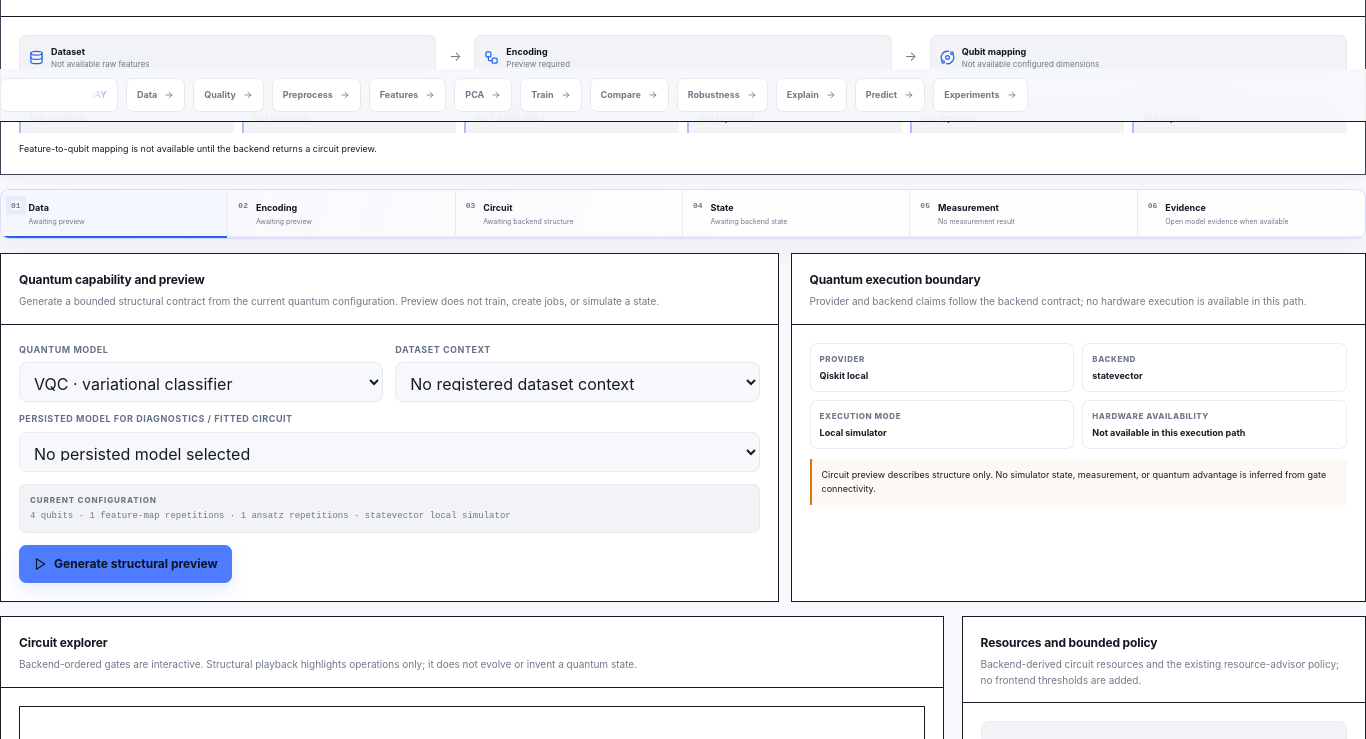
Quantum Lab visualization contract components › ignores a late visualization response after the Quantum Lab context changes
This screenshot has width=1366, height=739.
(page scrolled)
Select "Cohort A" in the dropdown named "Quantum dataset context" at (577, 382), box [395,362,760,402]
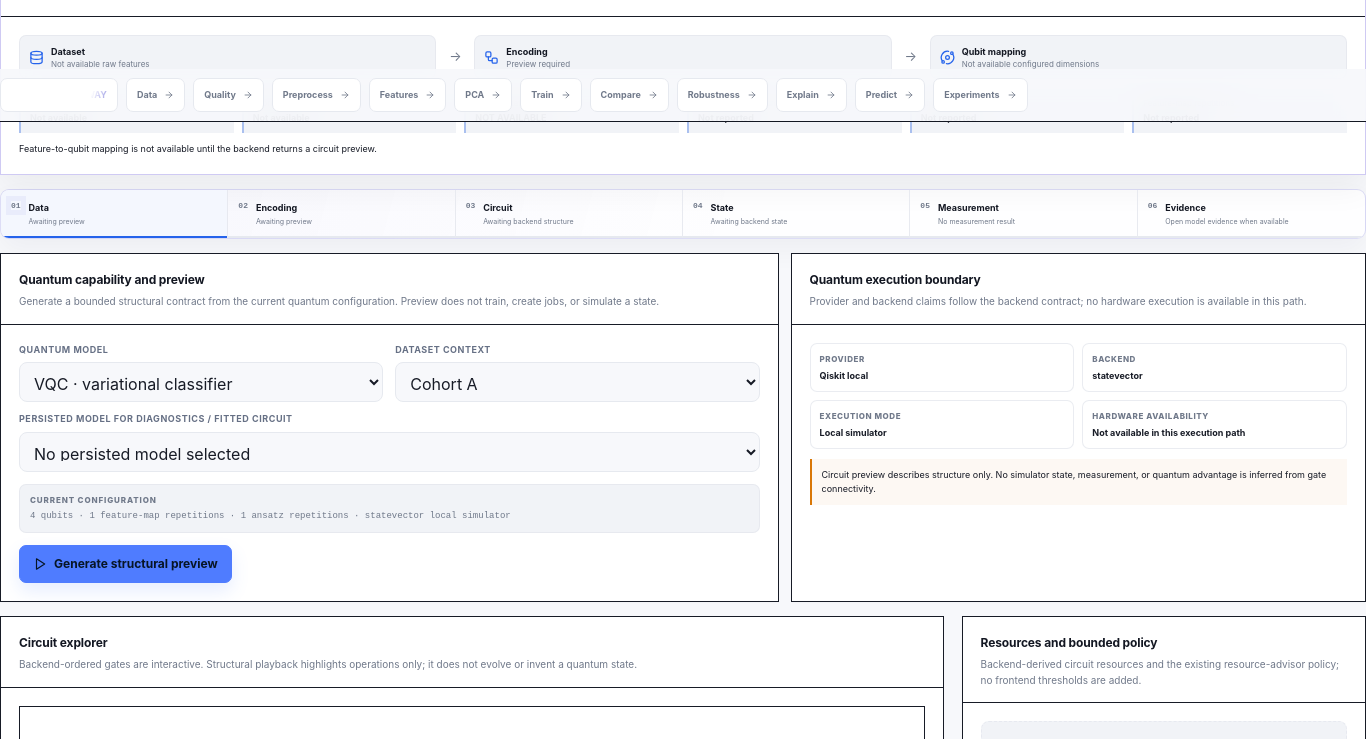
Click the button "Generate structural preview" at (125, 564), box [19,545,232,583]
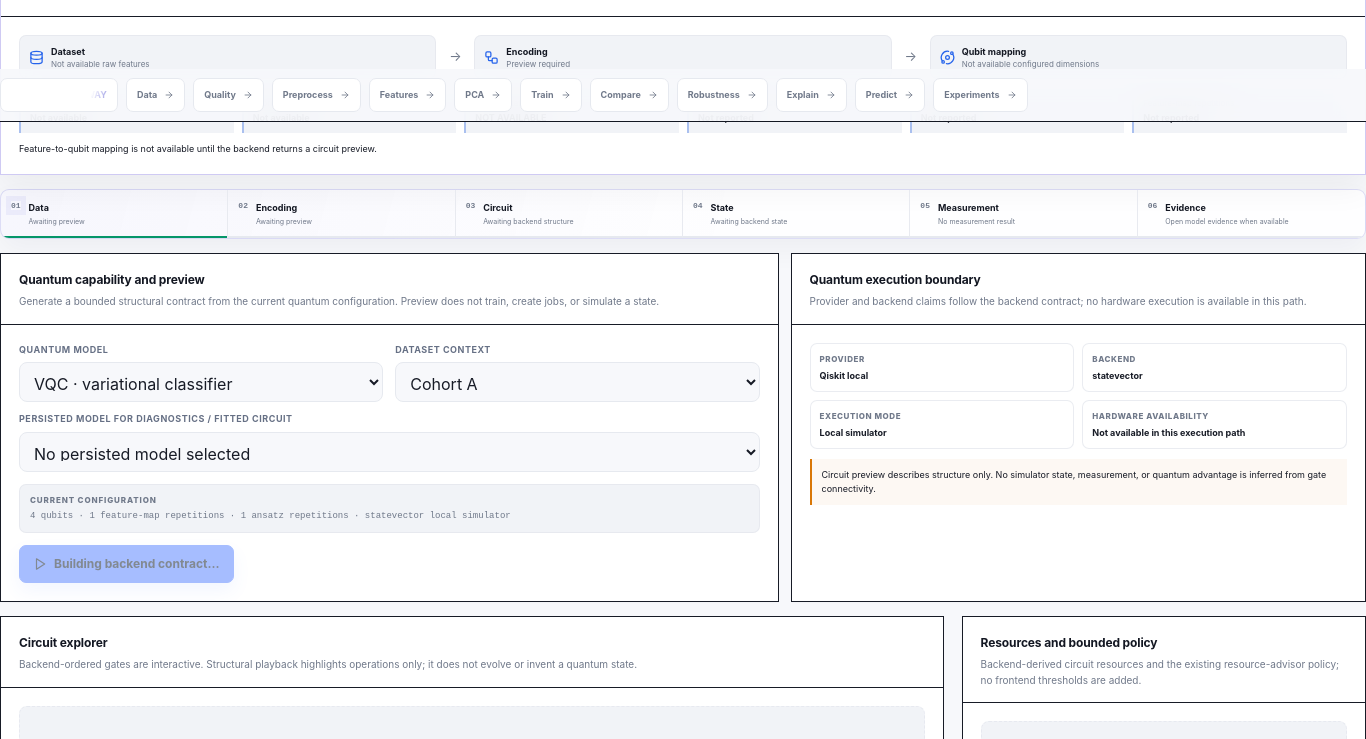
Select "Cohort B" in the dropdown named "Quantum dataset context" at (577, 382), box [395,362,760,402]
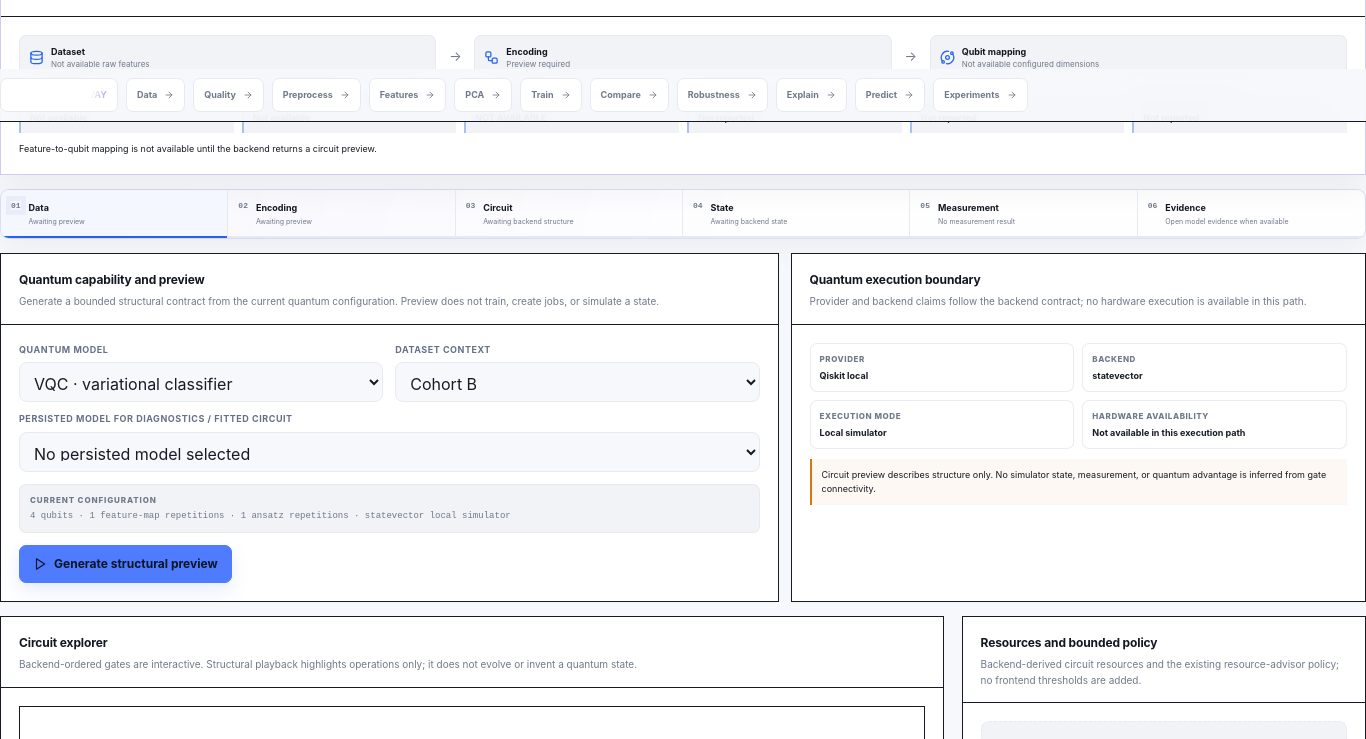
Click the button "Generate structural preview" at (125, 564), box [19,545,232,583]
(page scrolled)
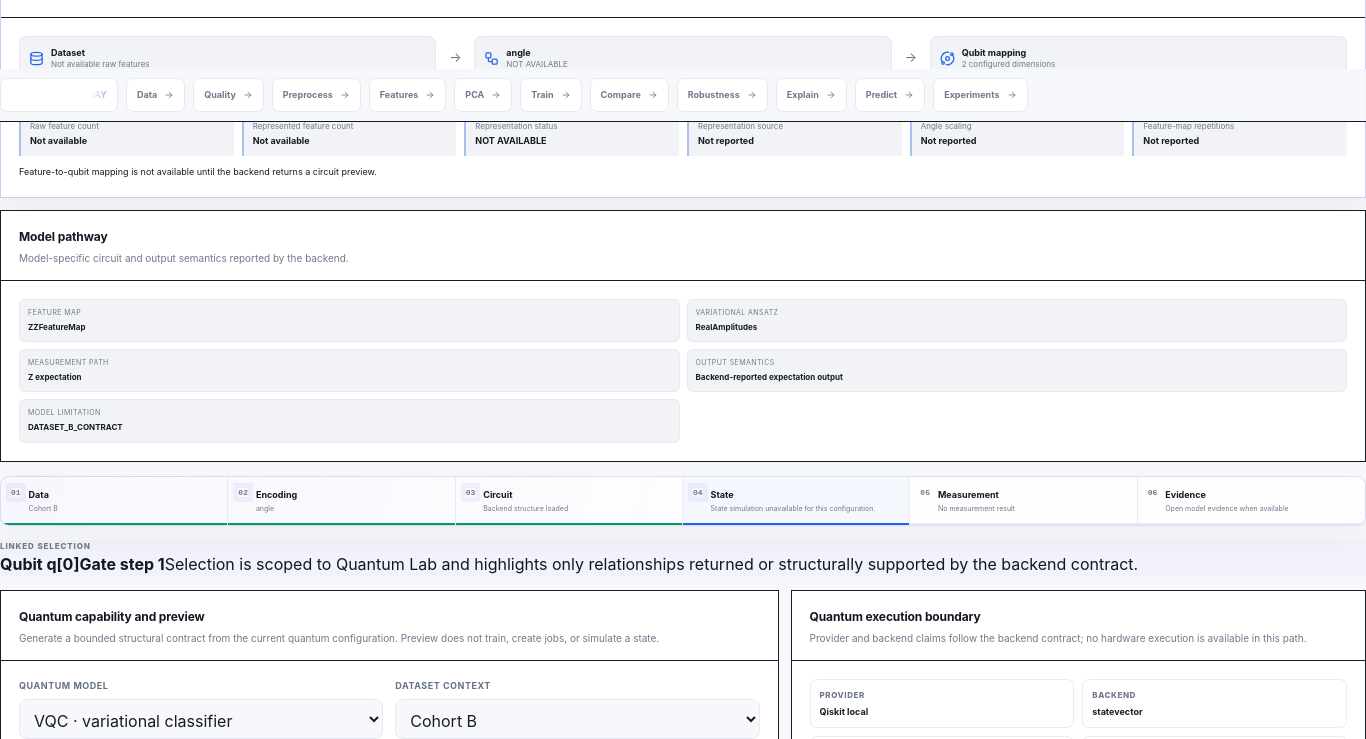
Now the text "DATASET_B_CONTRACT" is shown, box [28,422,123,432]
